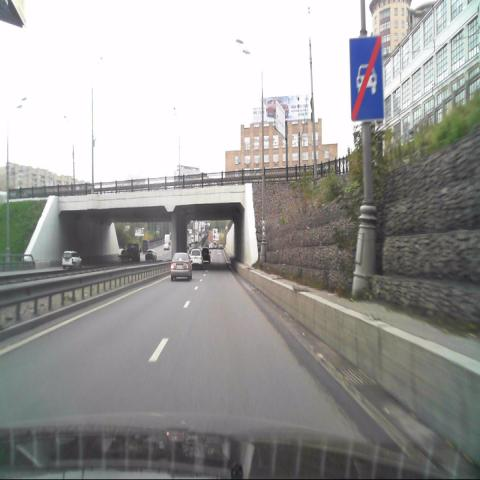5_4: (350, 37, 382, 120)
